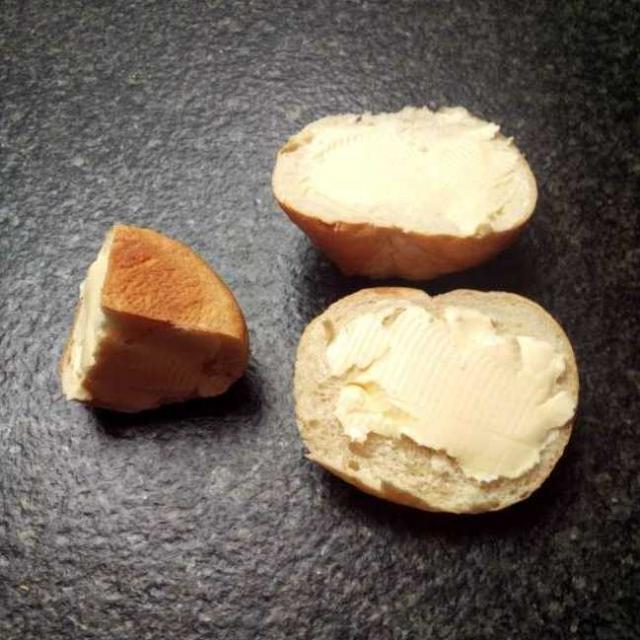bread: (43, 100, 581, 531)
butter: (297, 292, 578, 511)
